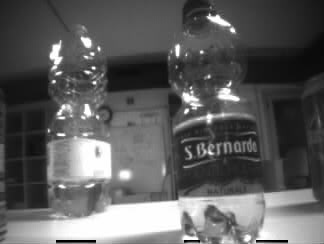Bottle: (163, 2, 268, 244), (43, 22, 113, 218)
